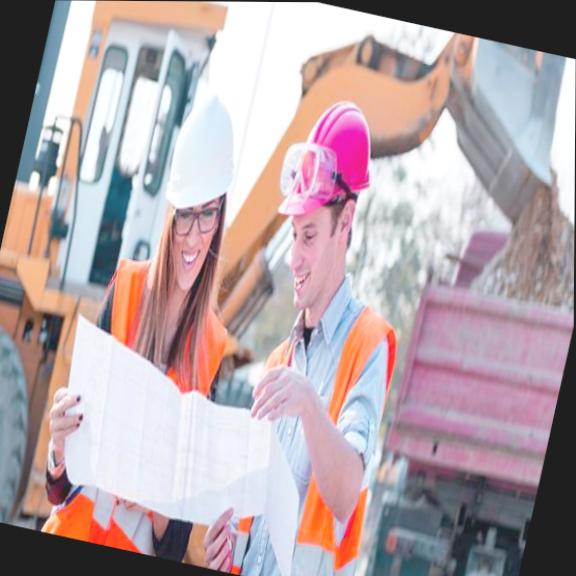no_safety_vest: (25, 249, 238, 561), (218, 281, 411, 576)
